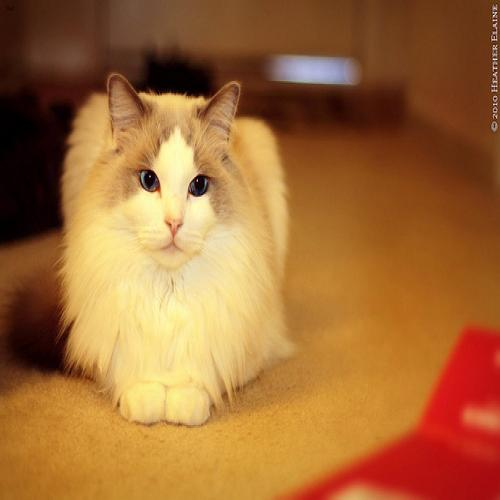ragdoll: (97, 65, 253, 278)
